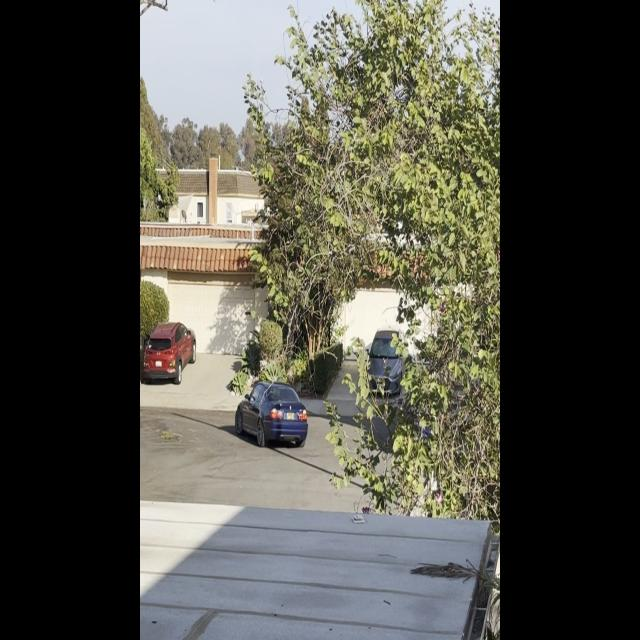Carbeetle: (233, 370, 309, 456)
Civilian: (140, 318, 199, 383), (363, 320, 409, 403)
